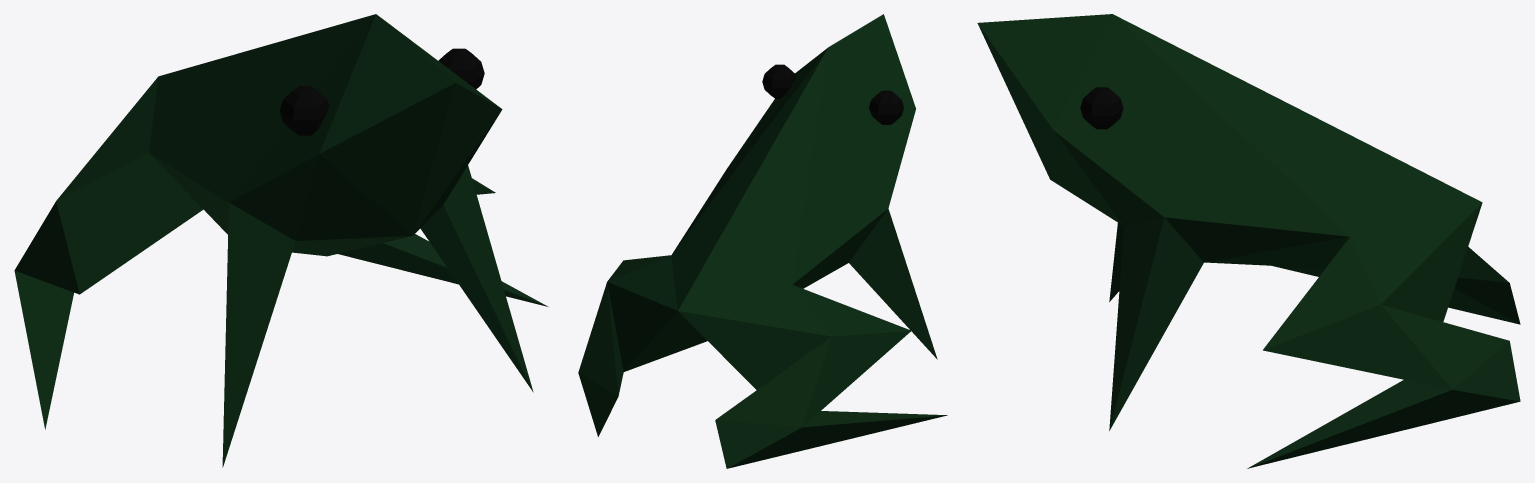
File: frog.obj
3 views of the same model, side by side, from view 1: azimuth 30°, elevation 25°; view 2: azimuth 150°, elevation 25°; view 3: azimuth 270°, elevation 25° (orthographic). The views are drawn at different scales.
Visible parts, largest first — view 1: frog_Cube.000, Sphere.001; view 2: frog_Cube.000, Sphere.001; view 3: frog_Cube.000, Sphere.001.
Part boxes in pixels (left/top/right/bottom): frog_Cube.000: left=14, top=14, right=548, bottom=467; Sphere.001: left=280, top=48, right=484, bottom=135; frog_Cube.000: left=578, top=14, right=947, bottom=468; Sphere.001: left=762, top=64, right=903, bottom=124; frog_Cube.000: left=977, top=14, right=1520, bottom=468; Sphere.001: left=1080, top=87, right=1123, bottom=129.
Bounding box in the file's own units: 0.7174 × 0.565 × 0.7878.
